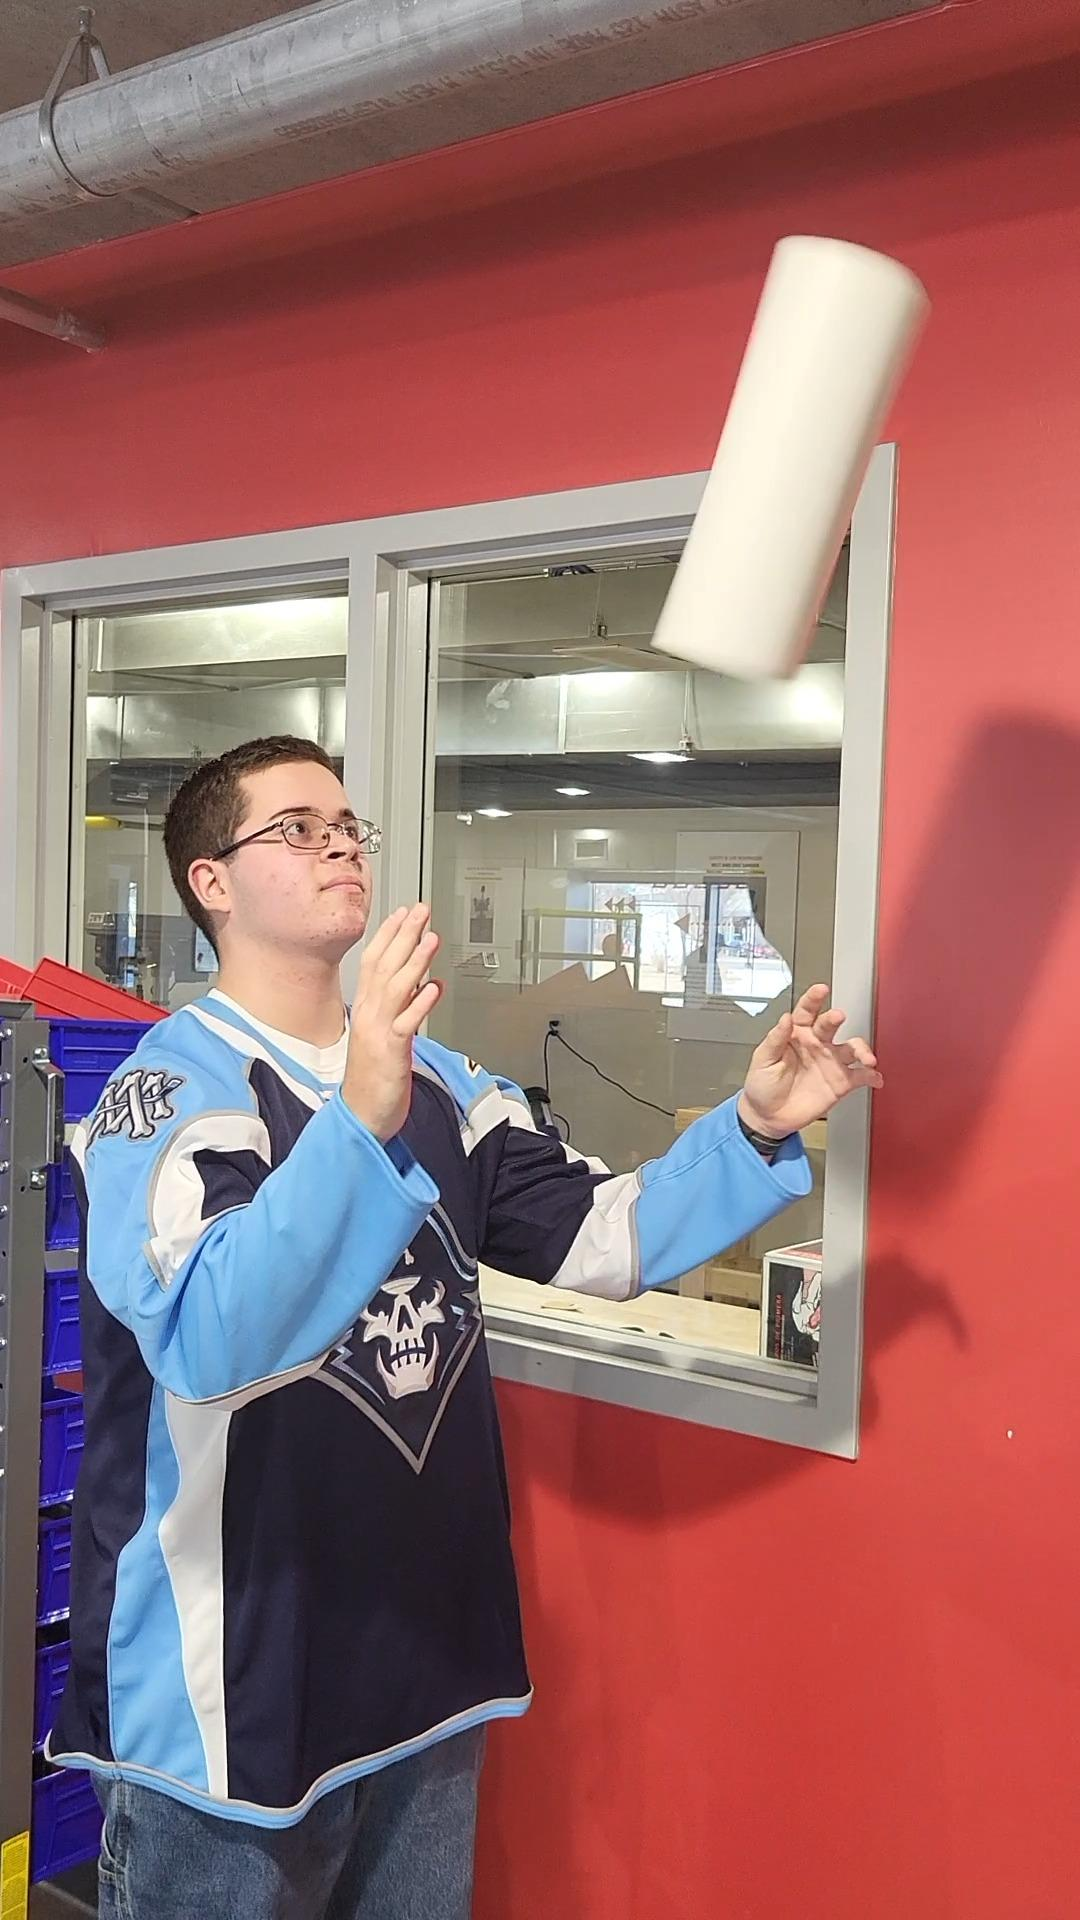coral: (663, 227, 934, 696)
